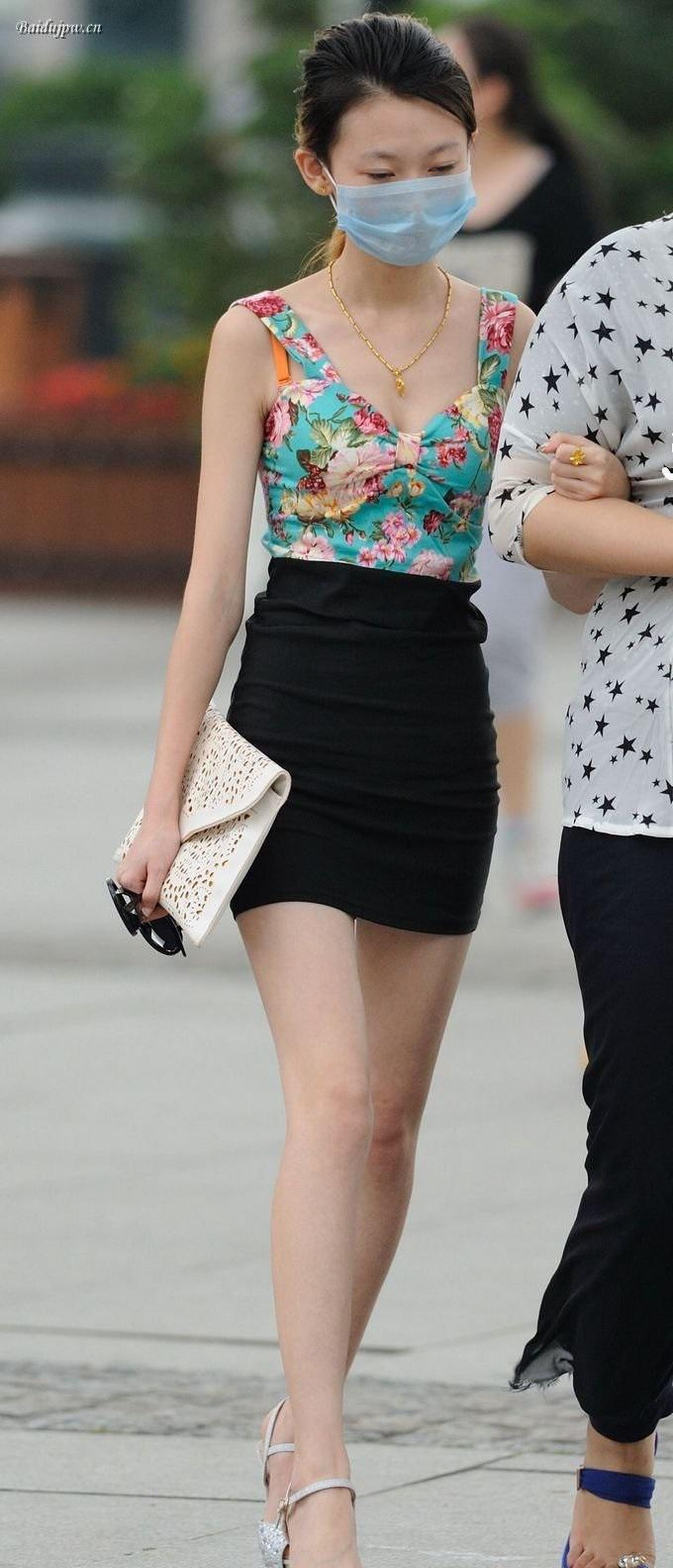OK: (336, 128, 472, 263)
